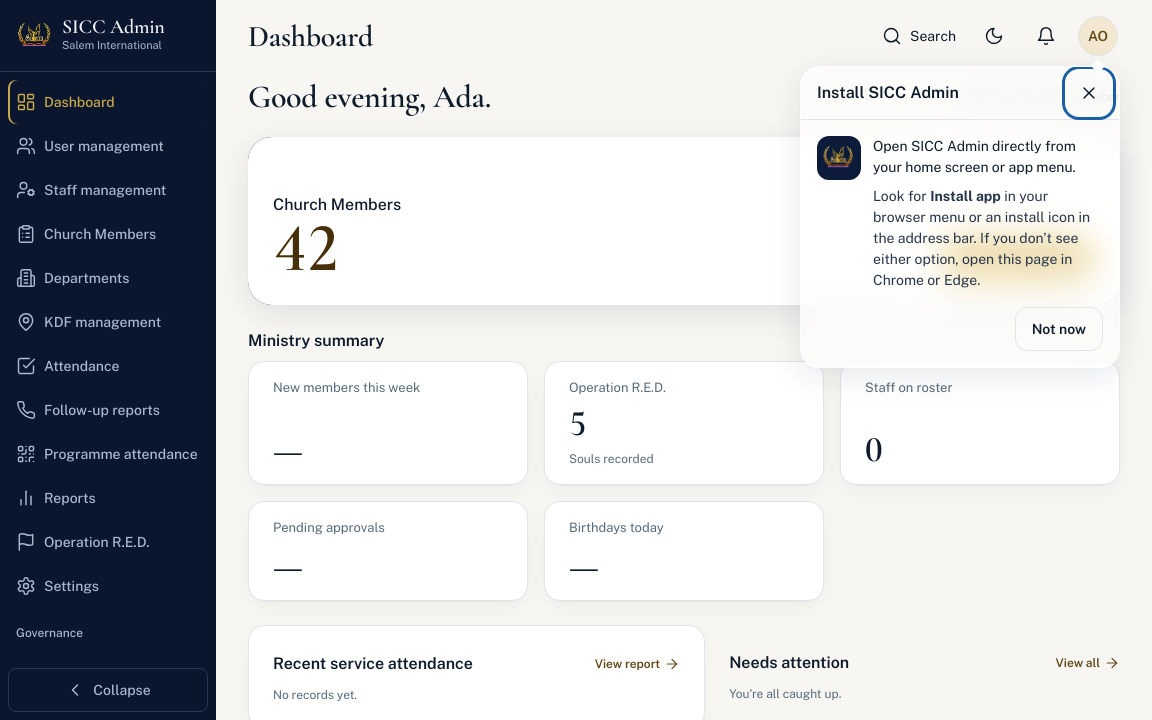
Test case: church directory › opens the names-only directory from the admin membership count
Expected: the link "Operation R.E.D. 5 Souls recorded" is shown, [544,361,824,485]
Click the link "42" at (306, 248), box [273,206,340,290]
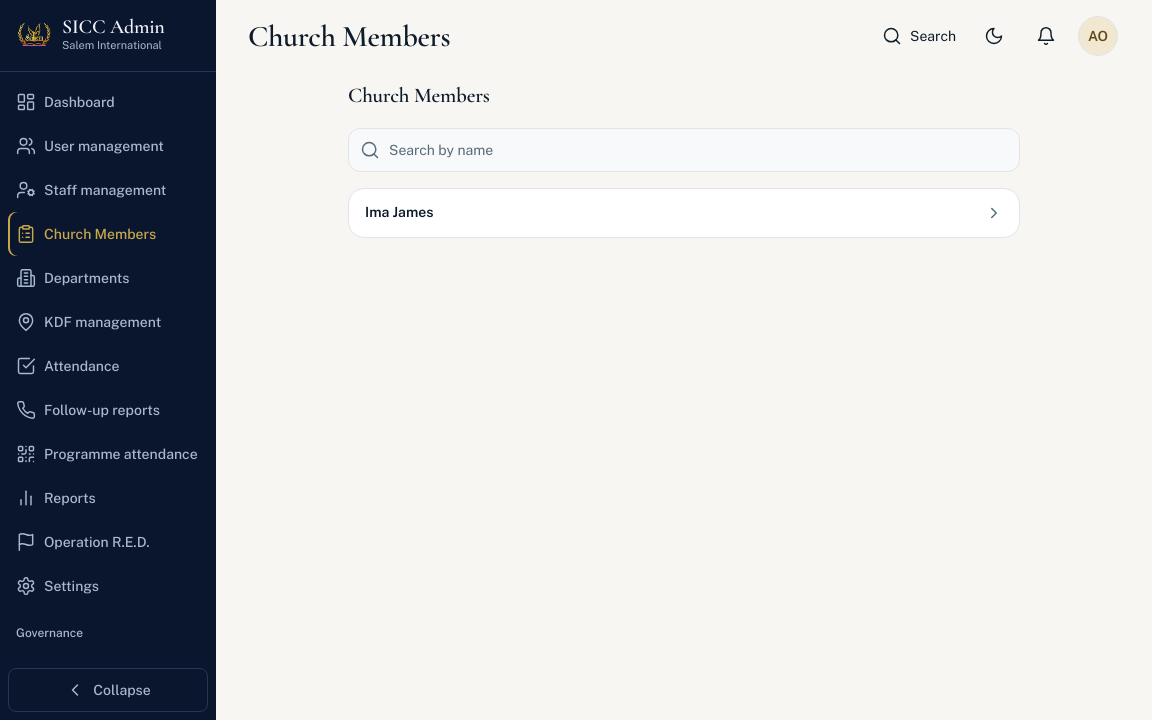
Result: the link "Ima James" is shown at [365,204,1003,222]
